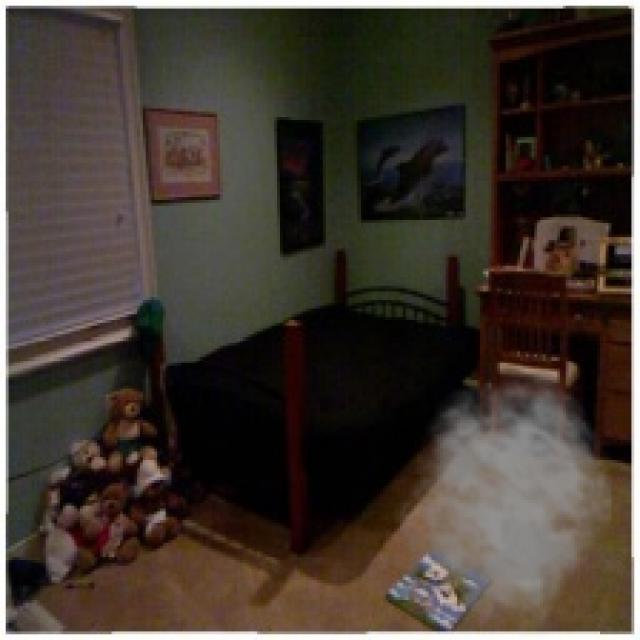smoke: (394, 369, 614, 637)
